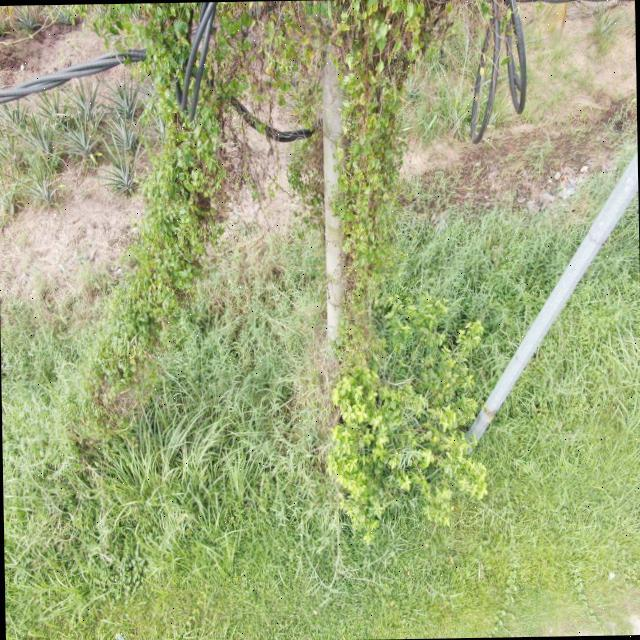critical vegetation: (71, 41, 235, 432), (310, 18, 396, 348)
